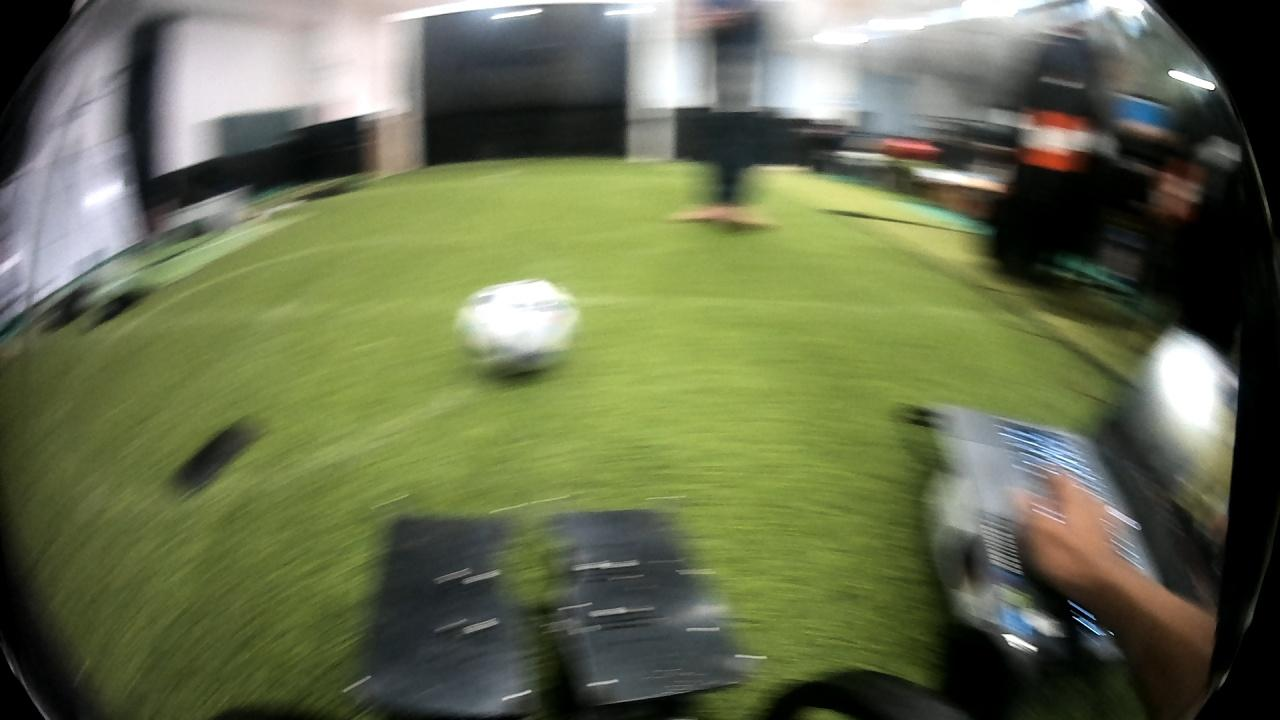ball: (444, 272, 593, 373)
